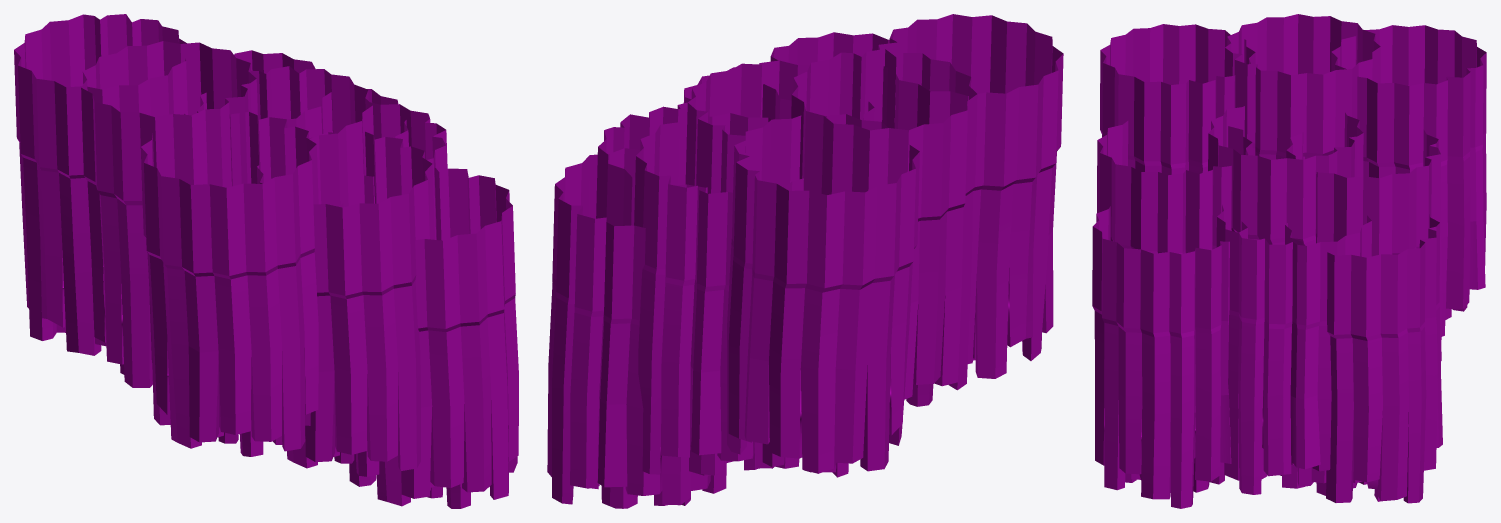
The model's file is Staffa_Prefab.fbx.
The picture shows the model from 3 angles, left to right: view 1: azimuth 30°, elevation 25°; view 2: azimuth 150°, elevation 25°; view 3: azimuth 270°, elevation 25°; orthographic projection. The views are drawn at different scales.
Parts seen in each view (by area): view 1: Staffa_Prefab; view 2: Staffa_Prefab; view 3: Staffa_Prefab.
Boxes of the visible parts, box(x1,y1,x2,y2) form: Staffa_Prefab: box(14, 14, 518, 508); Staffa_Prefab: box(547, 14, 1063, 508); Staffa_Prefab: box(1092, 14, 1486, 508).
Bounding box in the file's own units: 35.92 × 38.4 × 38.69.
